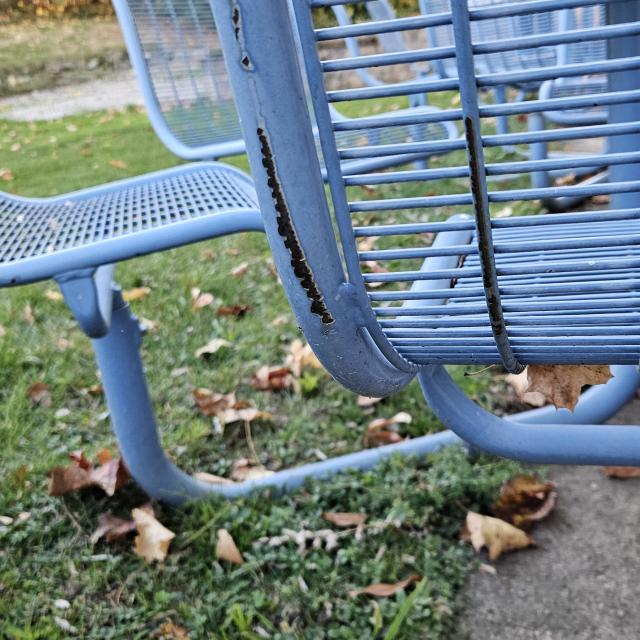Filiform Corrosion: (252, 127, 336, 329), (466, 120, 524, 377), (225, 2, 258, 77)
